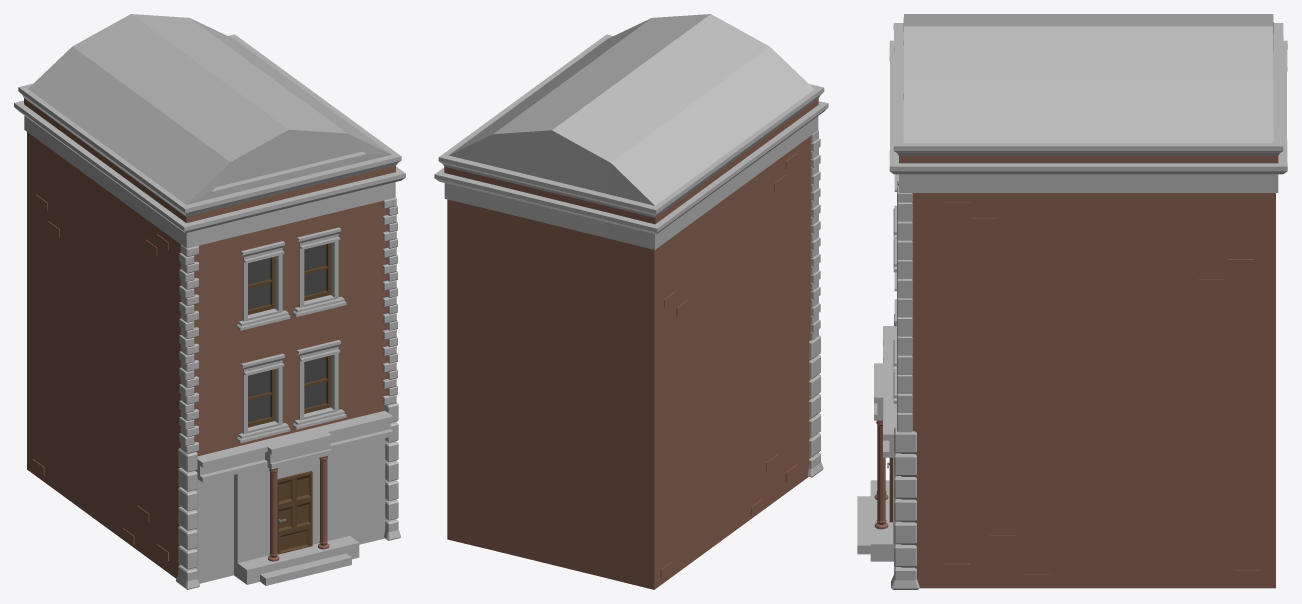
The model's file is Building3_Small.glb.
The picture shows the model from 3 angles, left to right: view 1: azimuth 30°, elevation 25°; view 2: azimuth 150°, elevation 25°; view 3: azimuth 270°, elevation 25°; orthographic projection. The views are drawn at different scales.
Parts seen in each view (by area): view 1: Building3_Small; view 2: Building3_Small; view 3: Building3_Small.
Part boxes in pixels (bbox=[...]): Building3_Small: bbox=[14, 14, 405, 589]; Building3_Small: bbox=[434, 14, 828, 589]; Building3_Small: bbox=[857, 14, 1287, 589].
Bounding box in the file's own units: 3.05 × 5.68 × 4.4.
